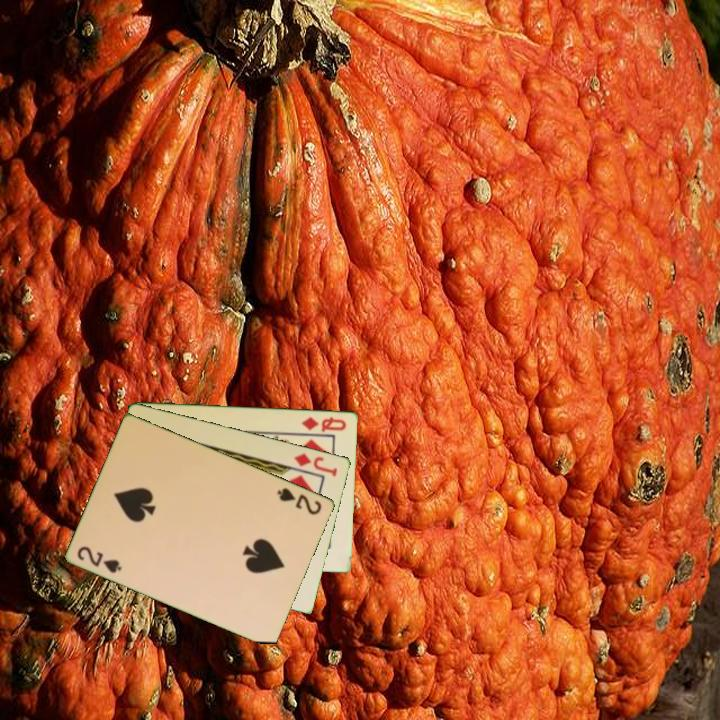2s: (274, 484, 325, 518), (74, 542, 125, 576)
Jd: (291, 449, 340, 479)
Qd: (298, 413, 349, 435)
